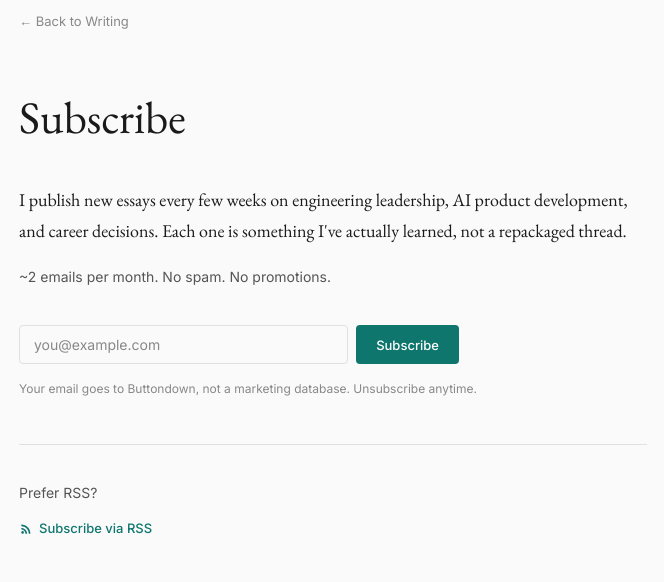
Subscribe page — error states › shows "Something went wrong" on server error
Type "test@example.com" into the field named "Email address" at (184, 344), box x1=19 y1=325 x2=348 y2=364
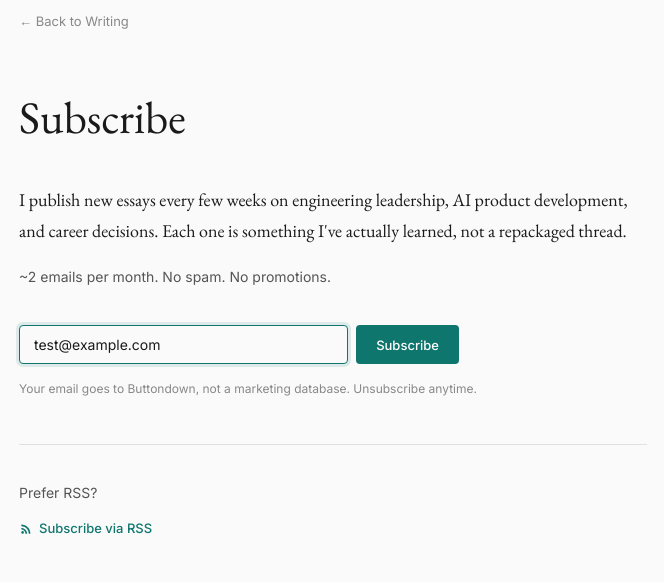
Click the button "Subscribe" at (408, 344), box x1=356 y1=325 x2=459 y2=364
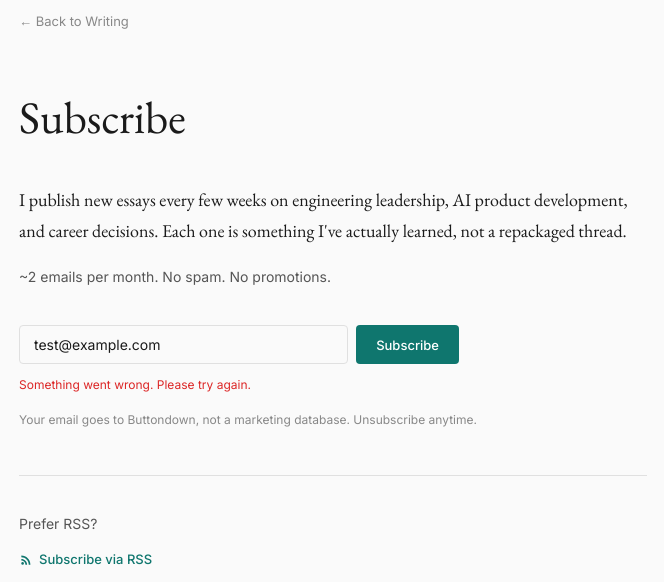
Expected: the text "Something went wrong. Please try again." is shown, x1=19 y1=377 x2=251 y2=392
